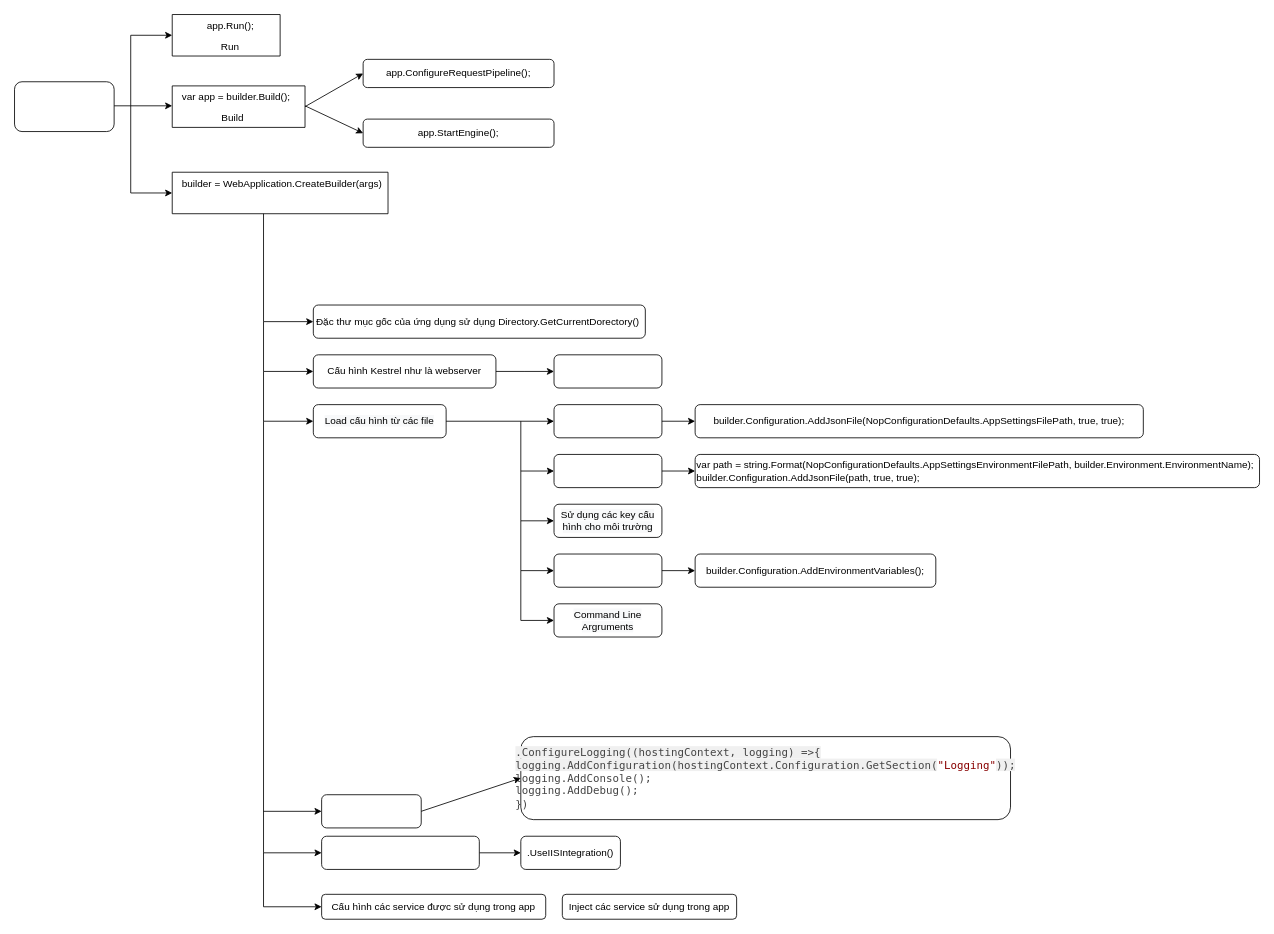
Image size: 1274x934. Some labels were removed from this diagram. Each missing label, with the centre of its shape:
".UseKestrel()" belongs at point 607,371.
"Appsettings.json" belongs at point 607,421.
"Appsettings.{Environment}.json" belongs at point 607,471.
"Bật Logging" belongs at point 371,811.
"Create" belongs at point 279,192.
"Các biến môi trường" belongs at point 607,570.
"Program.cs" belongs at point 64,106.
"Tích hợp Kestrel Chạy với IIS" belongs at point 400,852.
